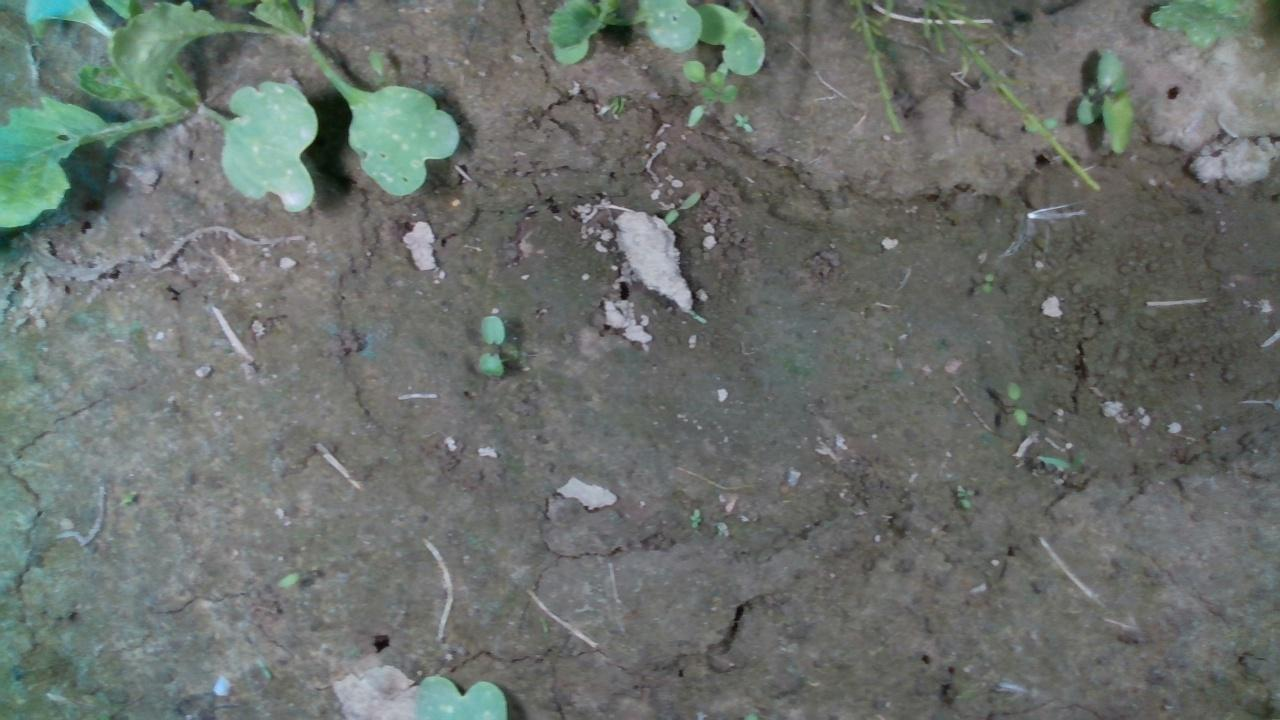weed: (475, 310, 506, 380), (662, 189, 701, 225), (1005, 378, 1028, 427), (732, 110, 755, 134), (687, 506, 700, 528), (982, 271, 992, 293)
